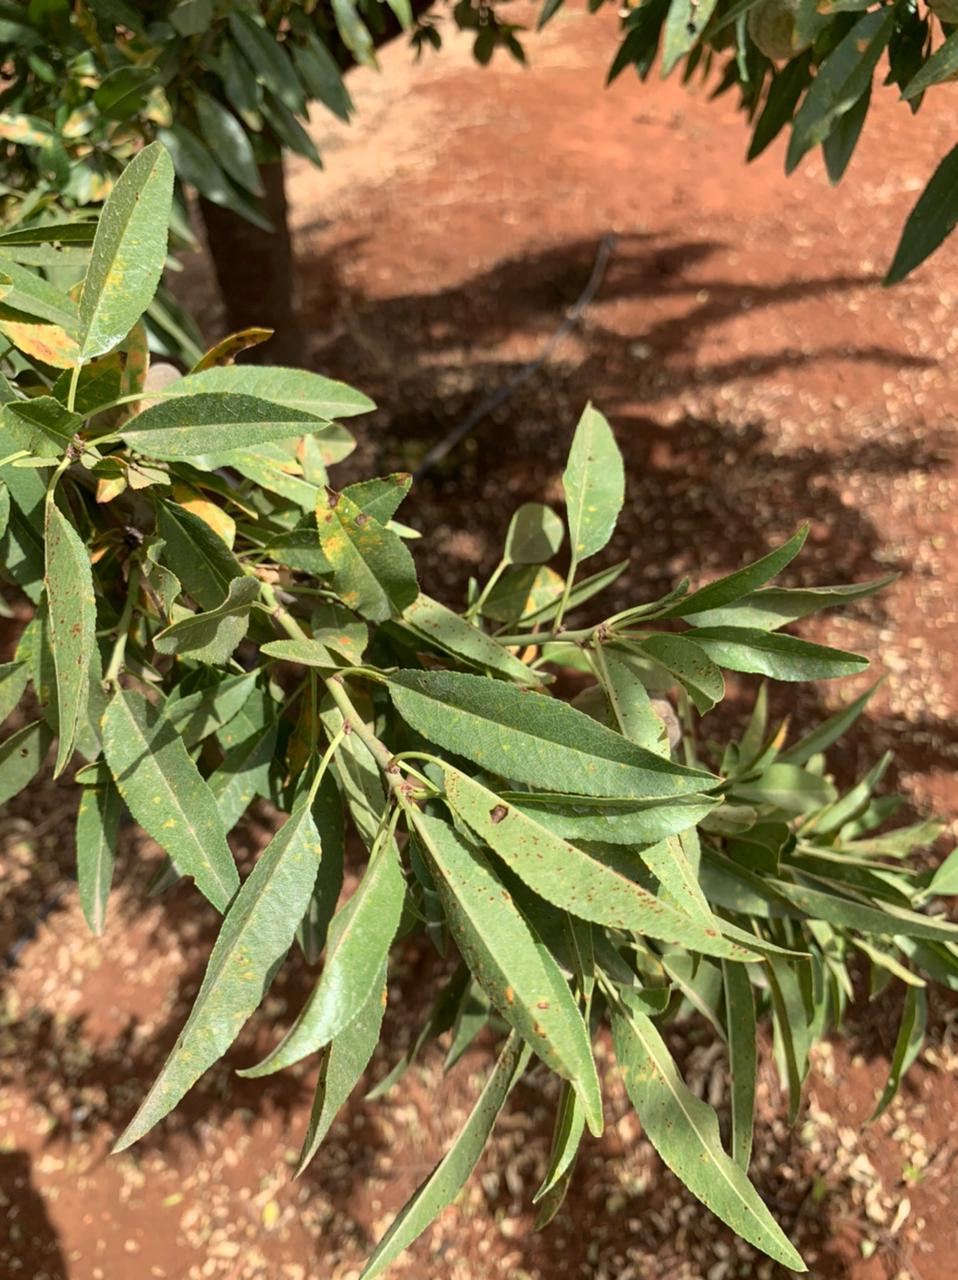rouille: (108, 800, 321, 1160), (432, 760, 762, 961), (608, 990, 813, 1273), (409, 806, 582, 1085), (358, 1017, 535, 1280), (97, 685, 250, 919), (78, 140, 177, 365), (40, 494, 100, 785), (382, 591, 547, 685), (312, 483, 418, 625), (560, 401, 628, 564), (595, 638, 671, 767), (616, 634, 727, 718), (1, 319, 89, 373), (339, 469, 417, 529), (193, 326, 285, 373), (1, 718, 44, 811)
